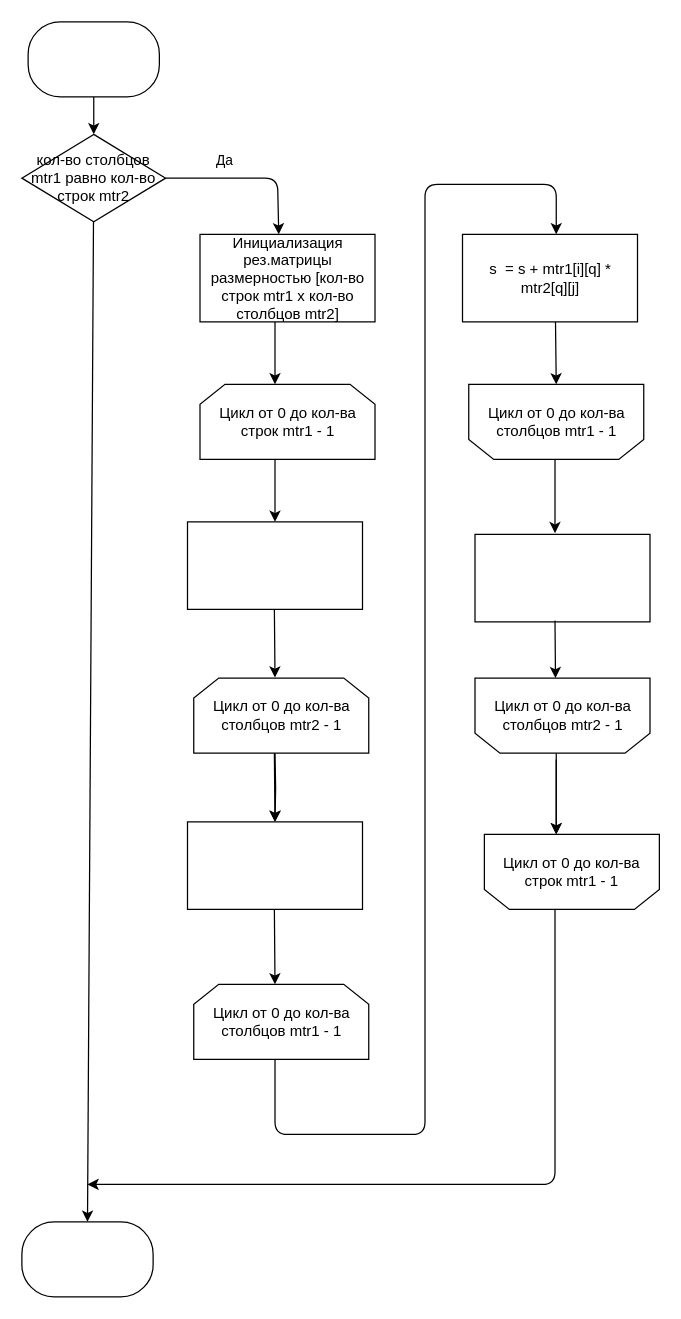
This 681x1319 diagram has some shape labels left out. The shapes that lost their labels are listed below. From the top down, each one's centre as x and y in pixels, then its label:
the point at 93,59: Начало
the point at 274,565: Добавить в res_mtr массив
the point at 562,577: Добавить s в res_mtr[i]
the point at 274,865: s = 0
the point at 87,1259: Конец
